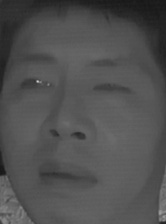eye: (90, 74, 134, 102), (15, 73, 56, 95)
mouth: (35, 155, 99, 195)
